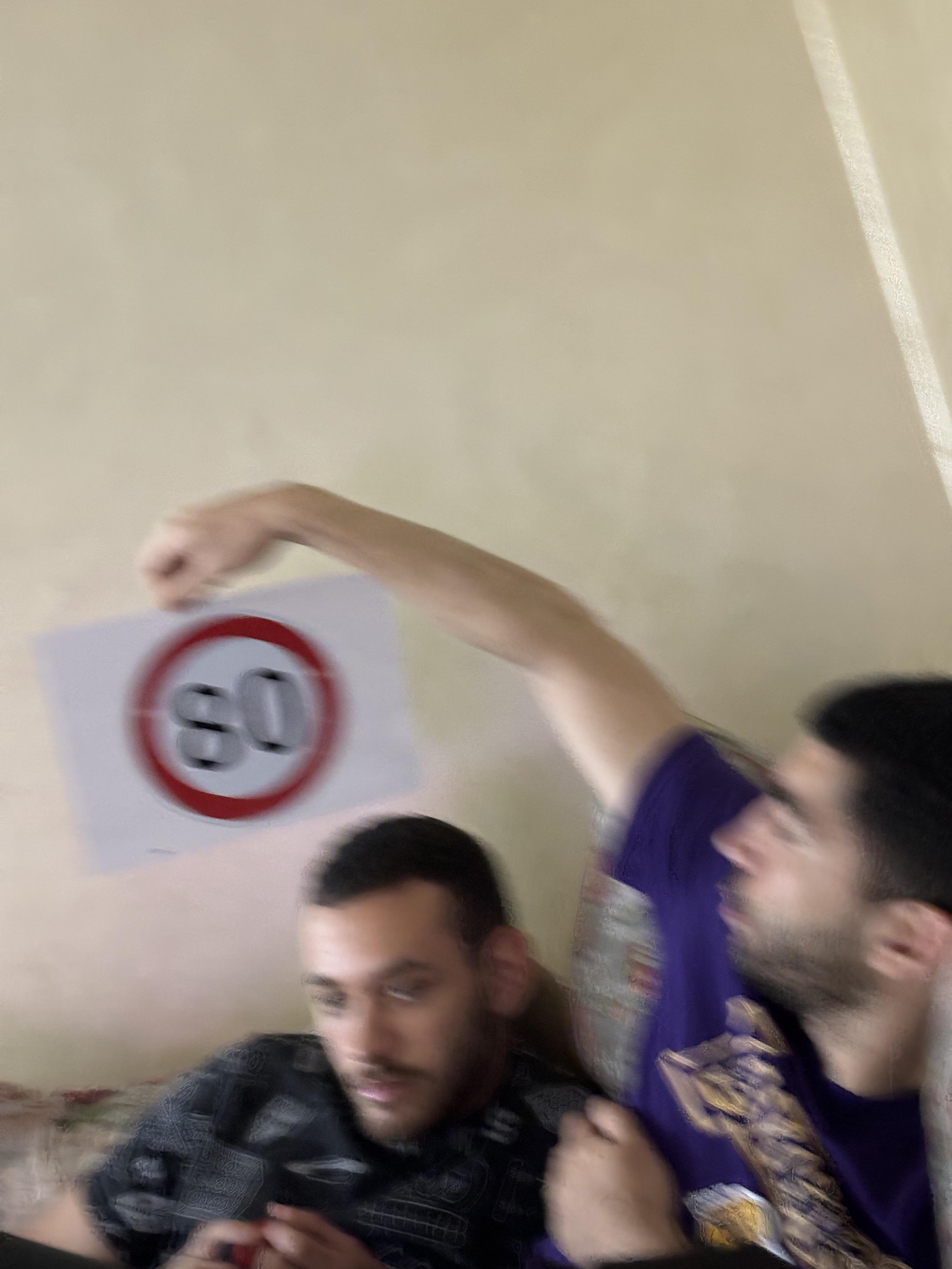80-Speed: (120, 608, 349, 825)
